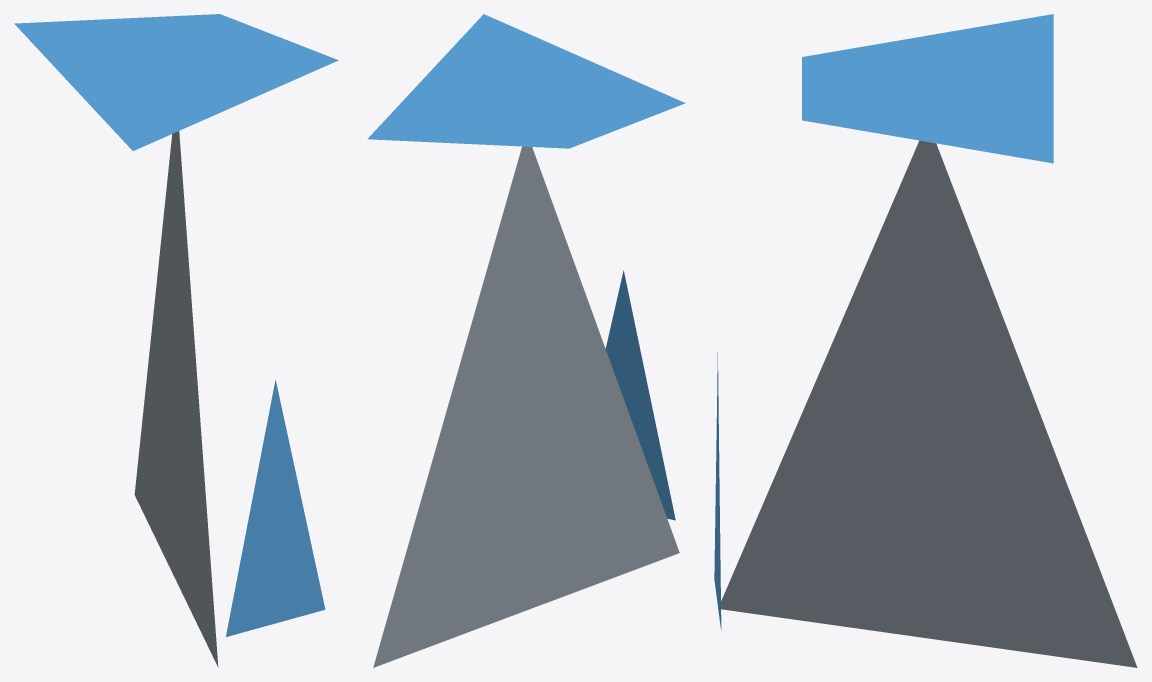
File: AL_Radar_LOD2.glb
3 renders of one model, left to right at view 1: azimuth 30°, elevation 25°; view 2: azimuth 150°, elevation 25°; view 3: azimuth 270°, elevation 25°, orthographic. The views are drawn at different scales.
Visible parts, largest first — view 1: EntranceGate; view 2: EntranceGate; view 3: EntranceGate.
Boxes of the visible parts, x1,y1,x2,y2 form: EntranceGate: [14, 14, 338, 667]; EntranceGate: [367, 14, 685, 667]; EntranceGate: [714, 14, 1137, 667].
Bounding box in the file's own units: 240 × 601 × 403.
